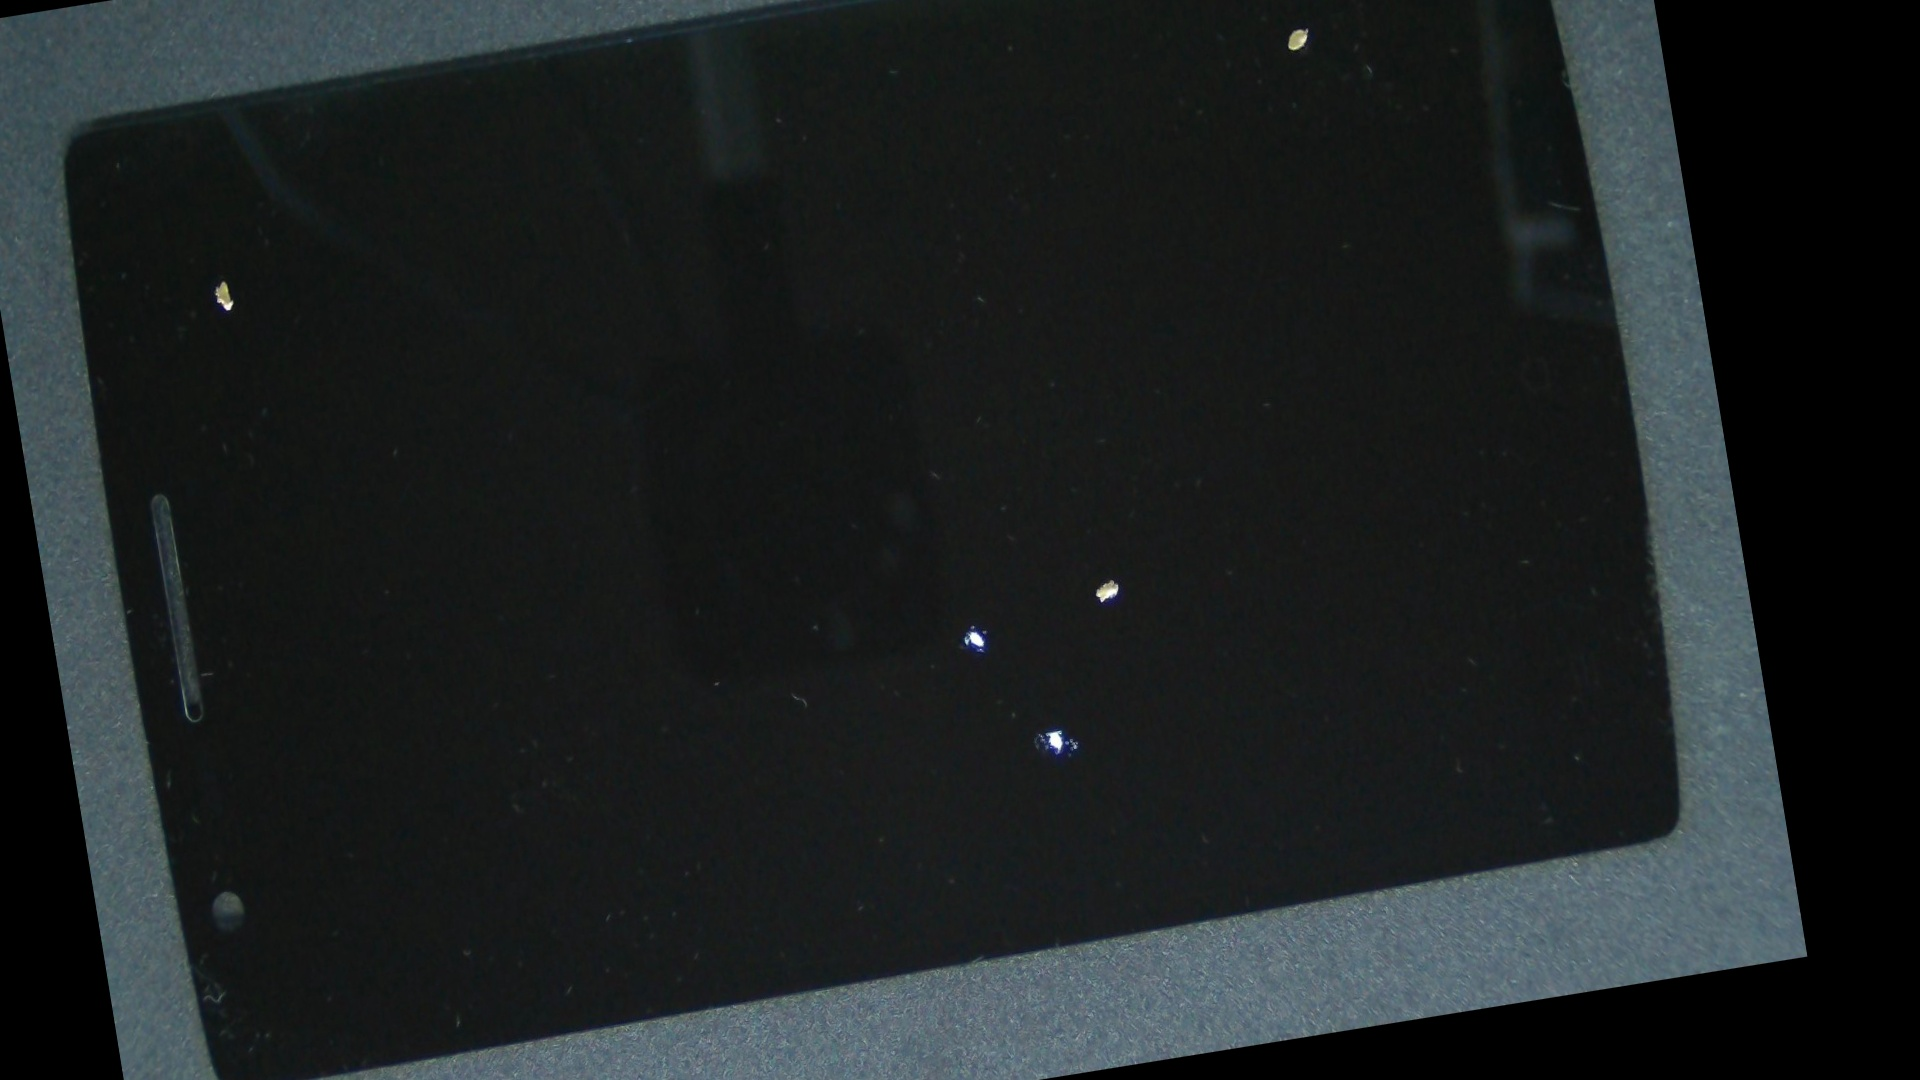oil: (533, 135, 1689, 1022), (508, 220, 1597, 1080), (464, 178, 1474, 1072), (626, 0, 1667, 240), (87, 116, 353, 443)
